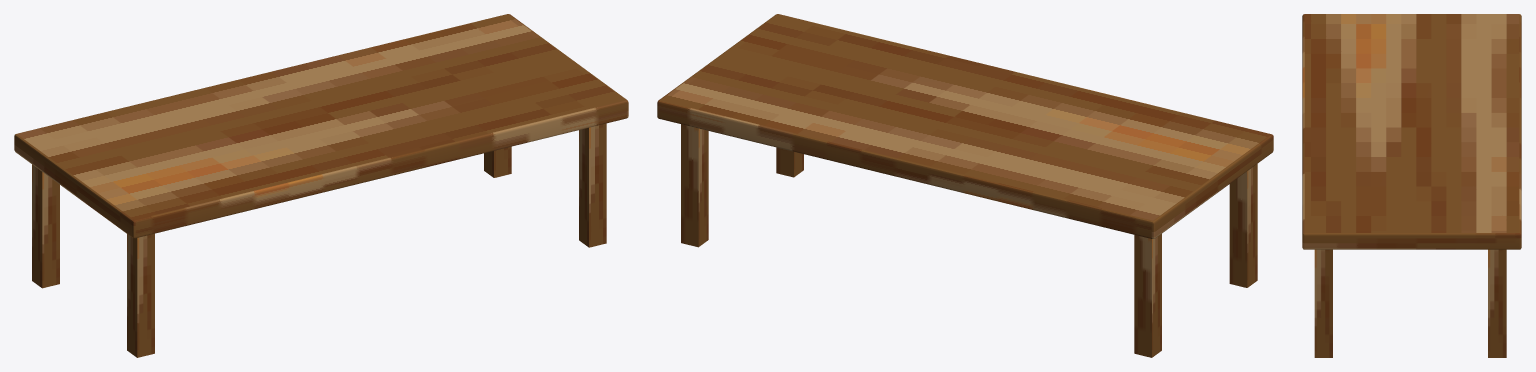
Rendered from tafel.fbx.
3 views of the same model, side by side, from view 1: azimuth 30°, elevation 25°; view 2: azimuth 150°, elevation 25°; view 3: azimuth 270°, elevation 25° (orthographic). The views are drawn at different scales.
Parts seen in each view (by area): view 1: tafel1; view 2: tafel1; view 3: tafel1.
Boxes of the visible parts, x1,y1,x2,y2 form: tafel1: (14,14,628,357); tafel1: (657,14,1273,357); tafel1: (1302,14,1521,357).
Size of the model in its own units: 3.56 by 0.9855 by 1.49.
